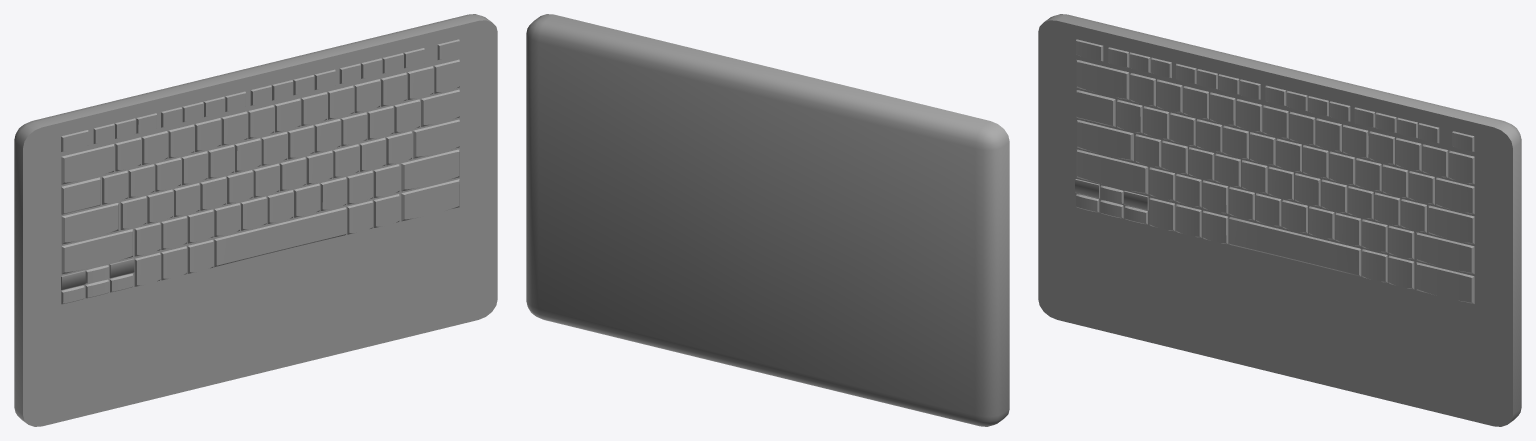
Rendered from MainMeshLaptop_14_1_GeomSubset_0.obj.
3 views of the same model, side by side, from view 1: azimuth 30°, elevation 25°; view 2: azimuth 150°, elevation 25°; view 3: azimuth 330°, elevation 25° (orthographic).
Visible parts, largest first — view 1: MainMeshLaptop_14_1_GeomSubset_0; view 2: MainMeshLaptop_14_1_GeomSubset_0; view 3: MainMeshLaptop_14_1_GeomSubset_0.
Part boxes in pixels (x1,y1,x2,y2): MainMeshLaptop_14_1_GeomSubset_0: (14, 14, 497, 426); MainMeshLaptop_14_1_GeomSubset_0: (526, 14, 1009, 426); MainMeshLaptop_14_1_GeomSubset_0: (1038, 14, 1521, 426).
Size of the model in its own units: 0.4736 by 0.2851 by 0.0292.
